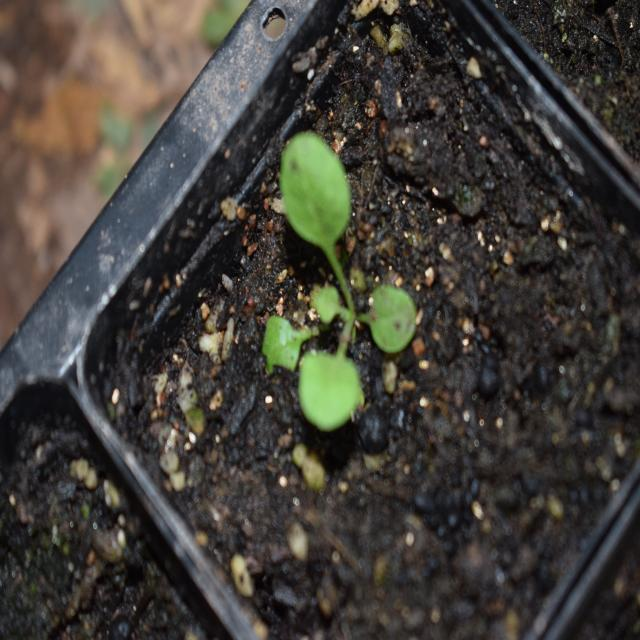Shepherd_Purse: (267, 121, 408, 438)
